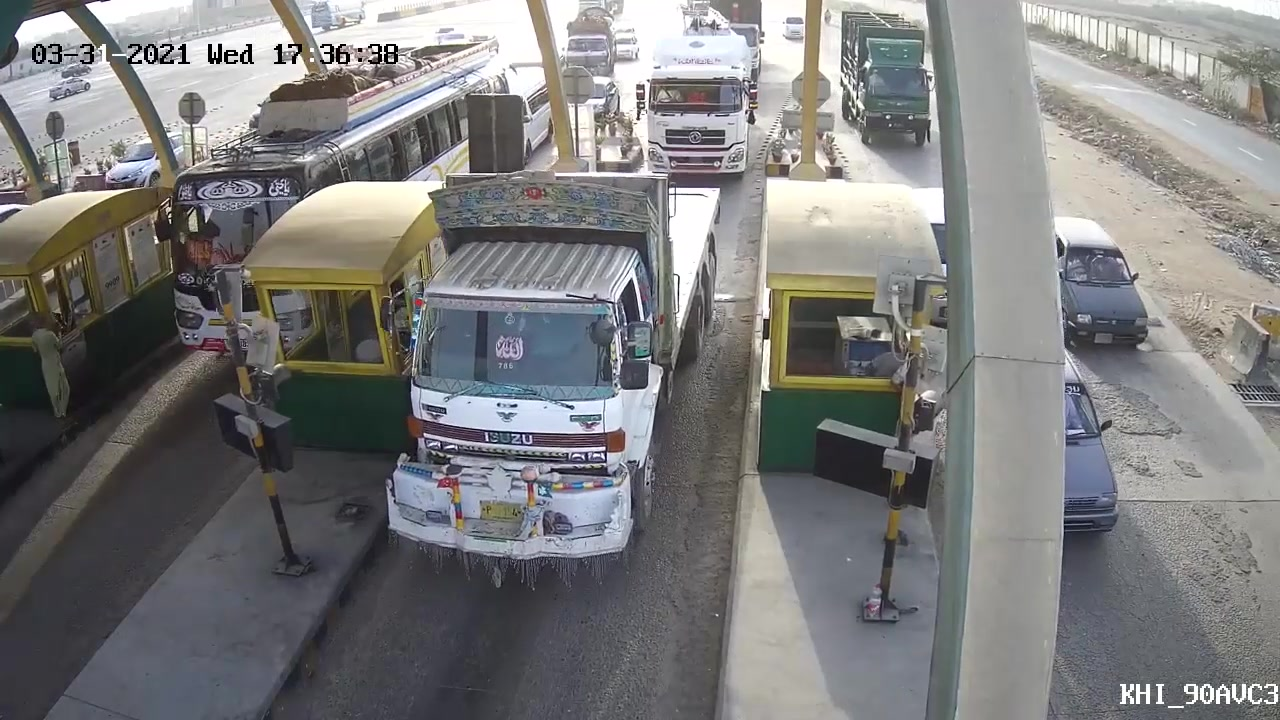F5: (393, 157, 730, 572)
